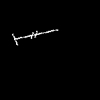treble_crochet: (12, 30, 57, 44)
